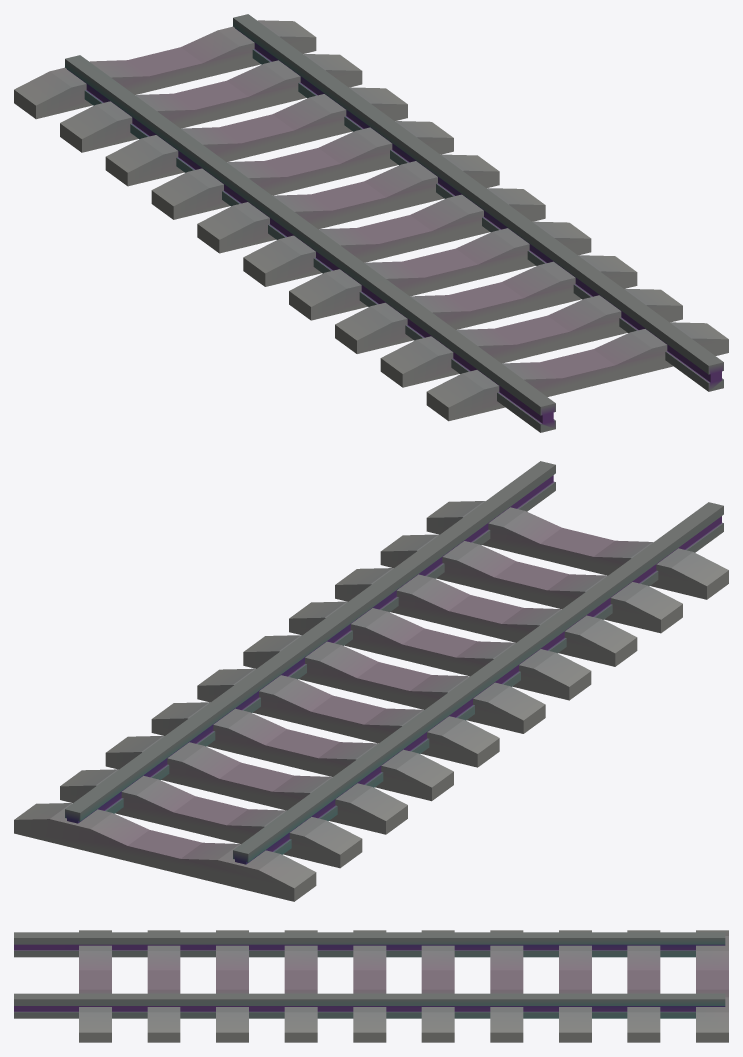
3 renders of one model, top to bottom at view 1: azimuth 30°, elevation 25°; view 2: azimuth 150°, elevation 25°; view 3: azimuth 270°, elevation 25°, orthographic. The views are drawn at different scales.
Visible parts, largest first — view 1: rail, rail.003, sleeper.008, sleeper.009, sleeper.010, sleeper.002, sleeper.003, sleeper.004, sleeper.001, sleeper.005, sleeper.006, sleeper.007; view 2: rail, rail.003, sleeper.010, sleeper.003, sleeper.002, sleeper.009, sleeper.001, sleeper.008, sleeper.007, sleeper.006, sleeper.004, sleeper.005; view 3: rail, rail.003, sleeper.010, sleeper.004, sleeper.005, sleeper.006, sleeper.007, sleeper.009, sleeper.002, sleeper.001, sleeper.003, sleeper.008.
Boxes of the visible parts, x1,y1,x2,y2 form: rail: (233,14,723,391); rail.003: (65,55,555,432); sleeper.008: (105,87,407,186); sleeper.009: (60,54,362,152); sleeper.010: (14,20,316,119); sleeper.002: (380,288,682,387); sleeper.003: (335,255,637,353); sleeper.004: (289,221,591,320); sleeper.001: (426,322,728,421); sleeper.005: (243,188,545,286); sleeper.006: (197,154,499,253); sleeper.007: (151,121,453,219); rail: (65,461,555,823); rail.003: (233,502,723,864); sleeper.010: (14,803,316,901); sleeper.003: (335,568,637,666); sleeper.002: (380,534,682,633); sleeper.009: (60,769,362,868); sleeper.001: (426,501,728,599); sleeper.008: (105,736,407,834); sleeper.007: (151,702,453,801); sleeper.006: (197,668,499,767); sleeper.004: (289,601,591,700); sleeper.005: (243,635,545,733); rail: (14,993,725,1018); rail.003: (14,932,725,957); sleeper.010: (696,930,728,1042); sleeper.004: (284,930,317,1042); sleeper.005: (353,930,386,1042); sleeper.006: (421,930,454,1042); sleeper.007: (490,930,523,1042); sleeper.009: (627,930,660,1042); sleeper.002: (147,930,180,1042); sleeper.001: (79,930,111,1042); sleeper.003: (216,930,248,1042); sleeper.008: (559,930,591,1042).
Bounding box in the file's own units: 1.01 × 0.1187 × 3.
